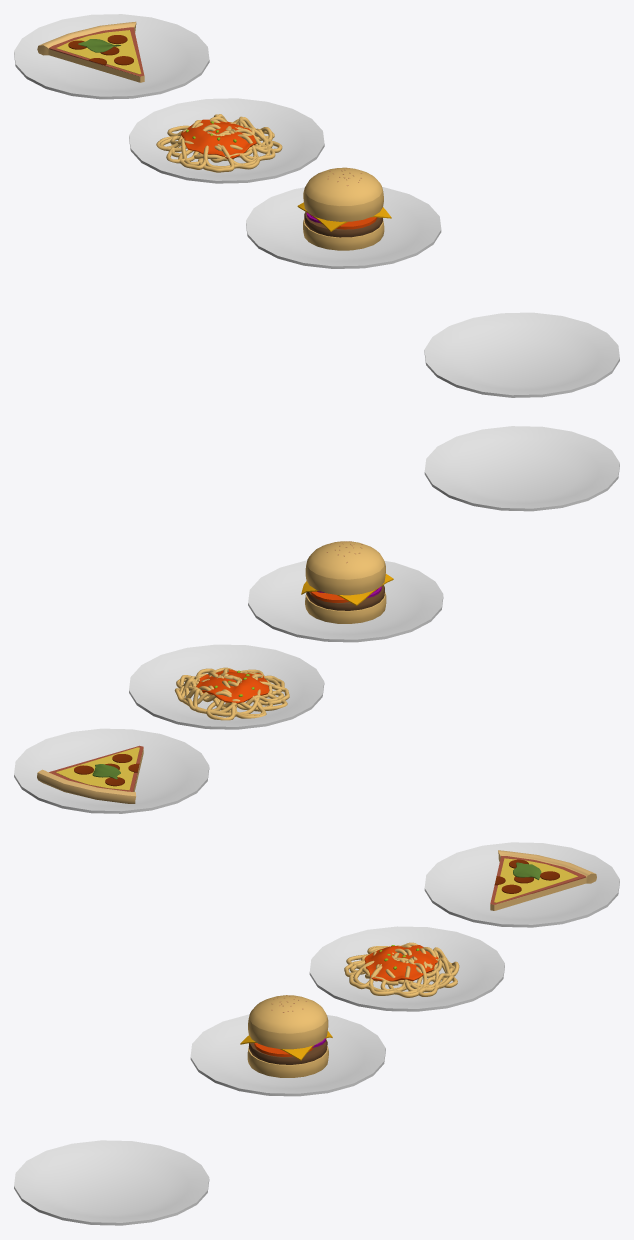
File: yemekler.fbx
3 renders of one model, top to bottom at view 1: azimuth 30°, elevation 25°; view 2: azimuth 150°, elevation 25°; view 3: azimuth 330°, elevation 25°, orthographic.
Visible parts, largest first — view 1: polySurface32, pCylinder37, pCylinder33, polySurface33; view 2: polySurface32, pCylinder37, pCylinder33, polySurface33; view 3: polySurface32, pCylinder33, polySurface33, pCylinder37.
Part boxes in pixels (x1,y1,x2,y2): polySurface32: (246,167,441,268); pCylinder37: (129,98,324,183); pCylinder33: (424,312,619,397); polySurface33: (14,14,209,99); polySurface32: (248,541,443,642); pCylinder37: (129,644,324,729); pCylinder33: (424,426,619,511); polySurface33: (14,728,209,813); polySurface32: (190,995,385,1096); pCylinder33: (14,1140,209,1225); polySurface33: (424,842,619,927); pCylinder37: (309,926,504,1011).
Size of the model in its own units: 1.81 by 0.6502 by 9.32.
